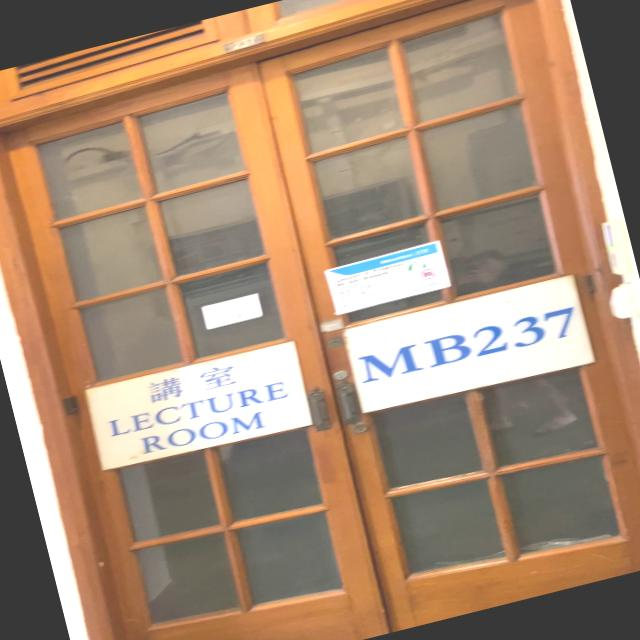room237Window: (344, 272, 593, 415)
